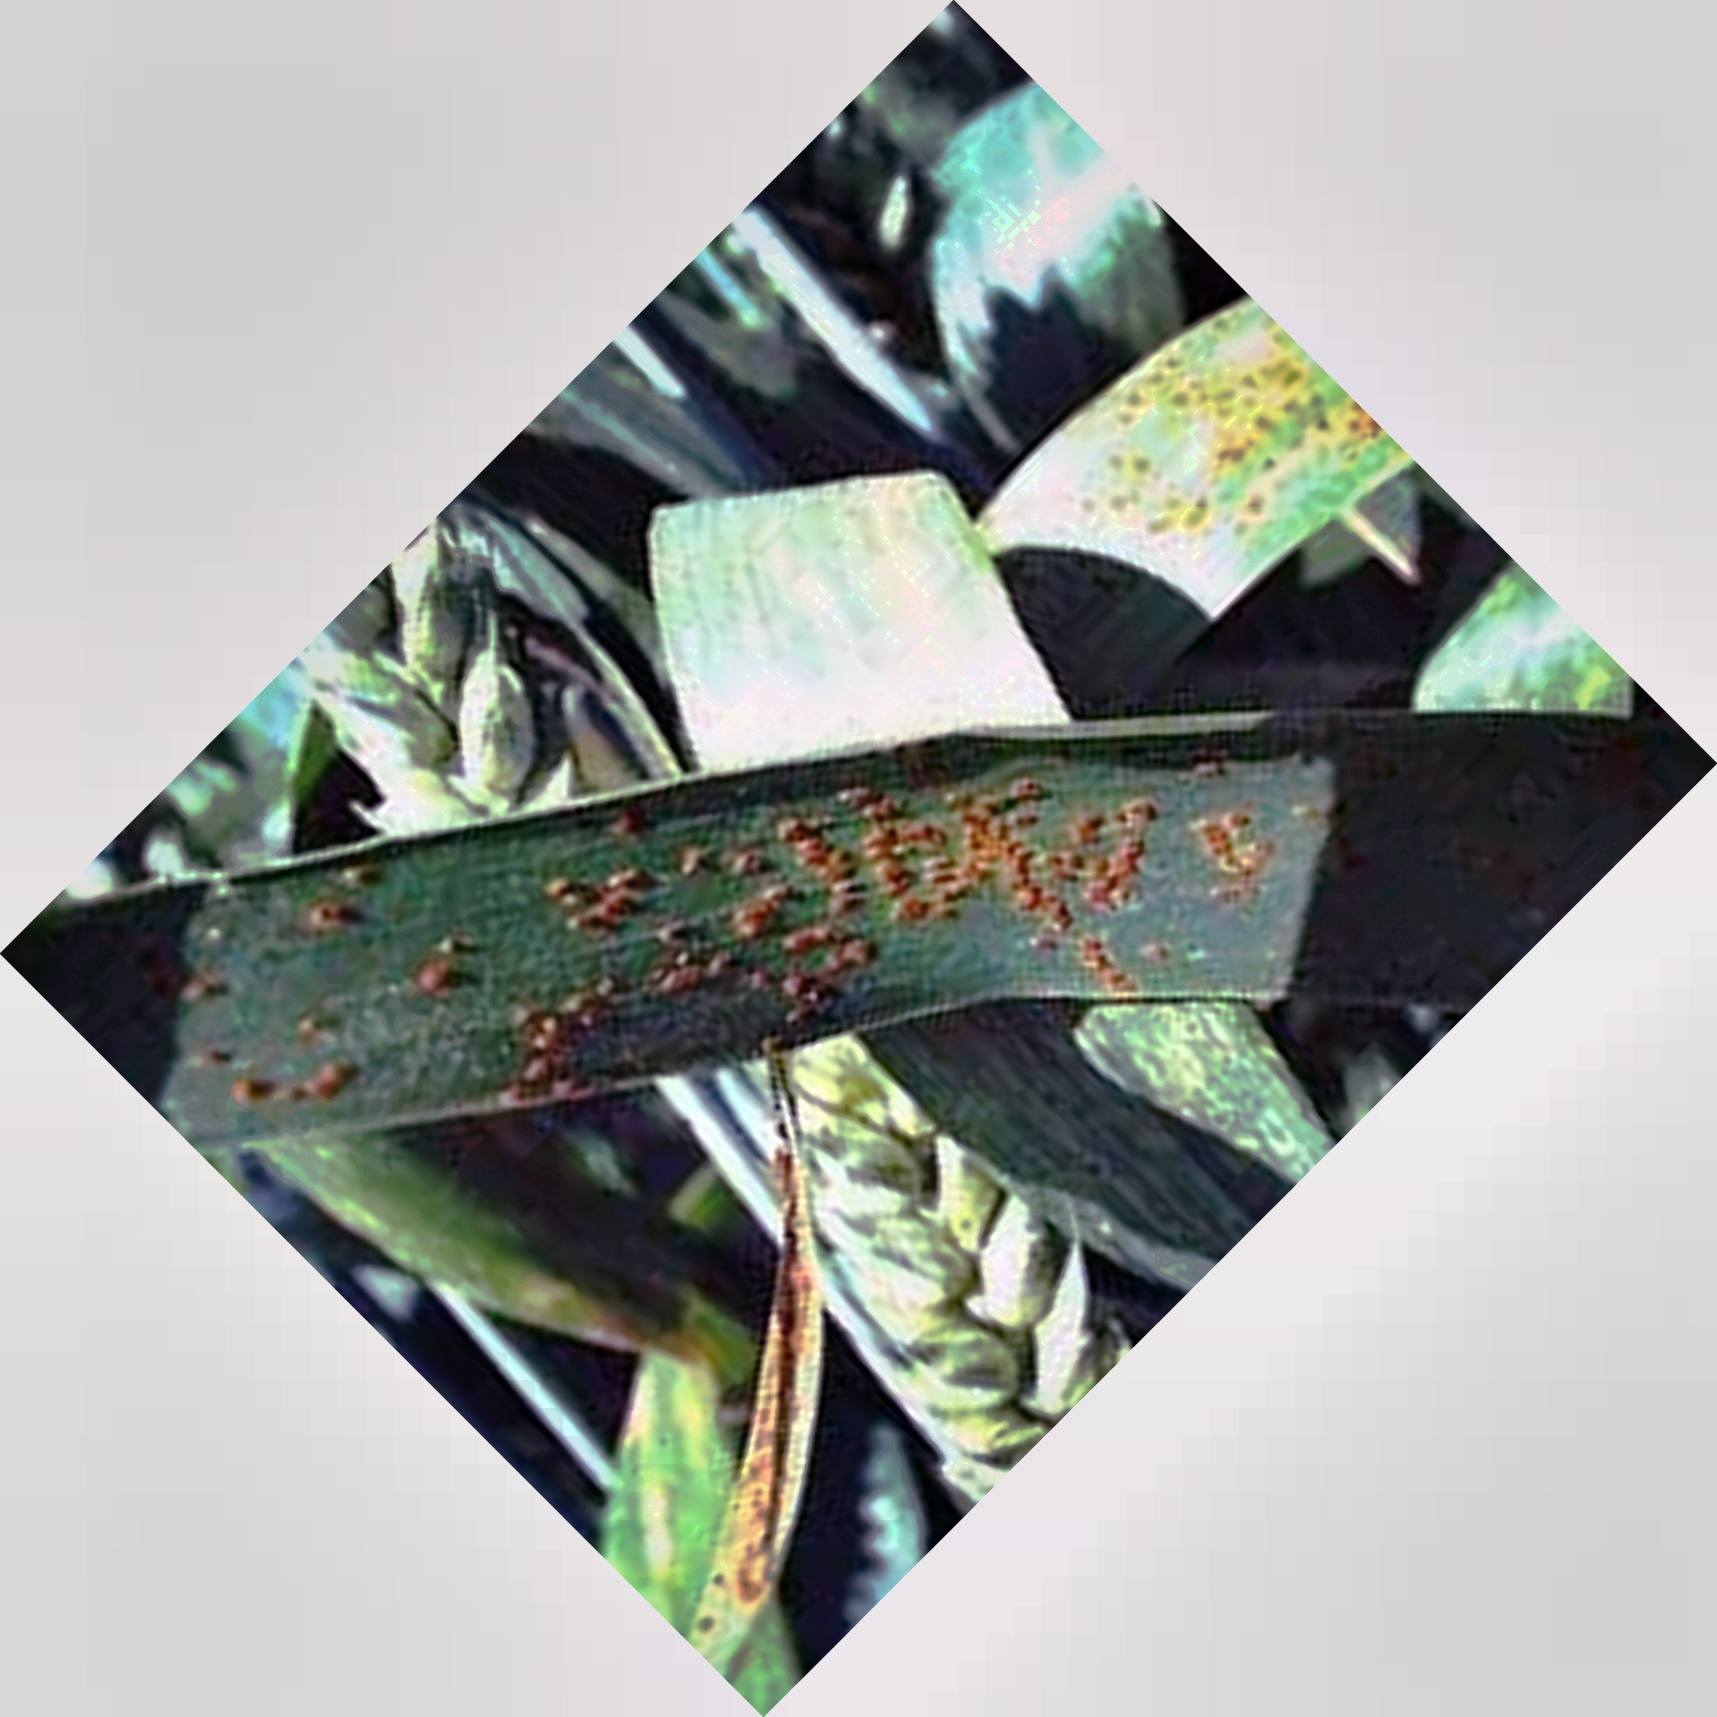Leaf Rust: (228, 700, 1365, 1123)
